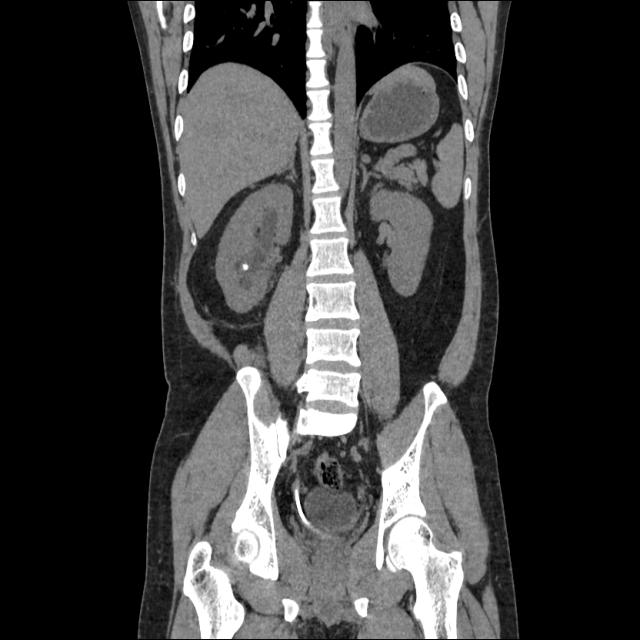kidney: (218, 174, 297, 314), (368, 186, 438, 302)
stone: (238, 256, 254, 274)
